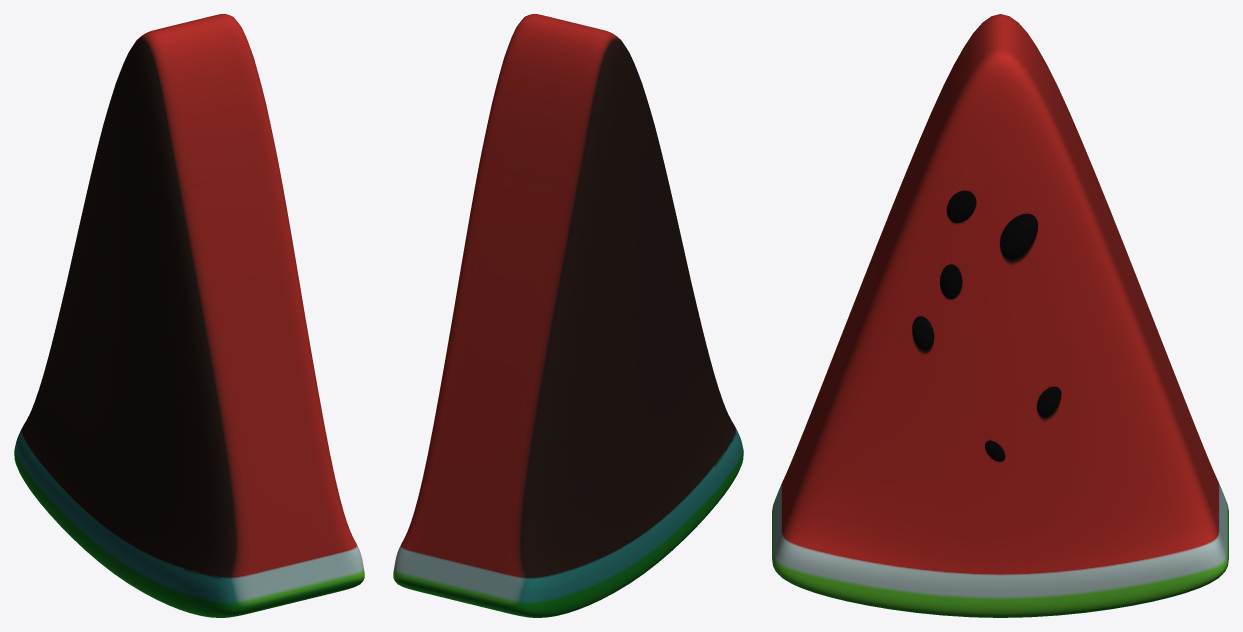
File: exemple_default.glb
The picture shows the model from 3 angles, left to right: view 1: azimuth 30°, elevation 25°; view 2: azimuth 150°, elevation 25°; view 3: azimuth 270°, elevation 25°; orthographic projection. The views are drawn at different scales.
Visible parts, largest first — view 1: Cube; view 2: Cube; view 3: Cube, Pepin.003, Pepin.004, Pepin.
Part boxes in pixels (bbox=[...]): Cube: bbox=[14, 14, 364, 617]; Cube: bbox=[393, 14, 743, 617]; Cube: bbox=[772, 14, 1228, 617]; Pepin.003: bbox=[1000, 213, 1037, 259]; Pepin.004: bbox=[946, 190, 976, 222]; Pepin: bbox=[940, 264, 962, 299].
Size of the model in its own units: 0.0368 by 0.118 by 0.0886.
4 materials, 3 textured.
